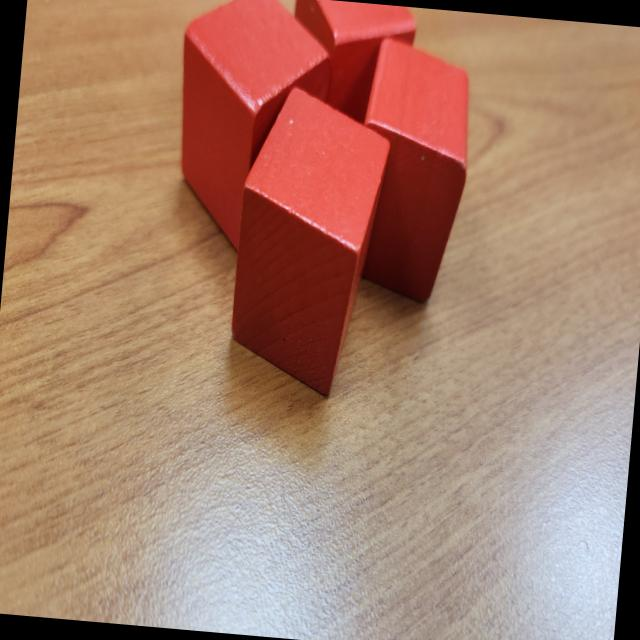red: (224, 80, 392, 404), (165, 0, 334, 259), (336, 30, 481, 307), (281, 0, 416, 125)
